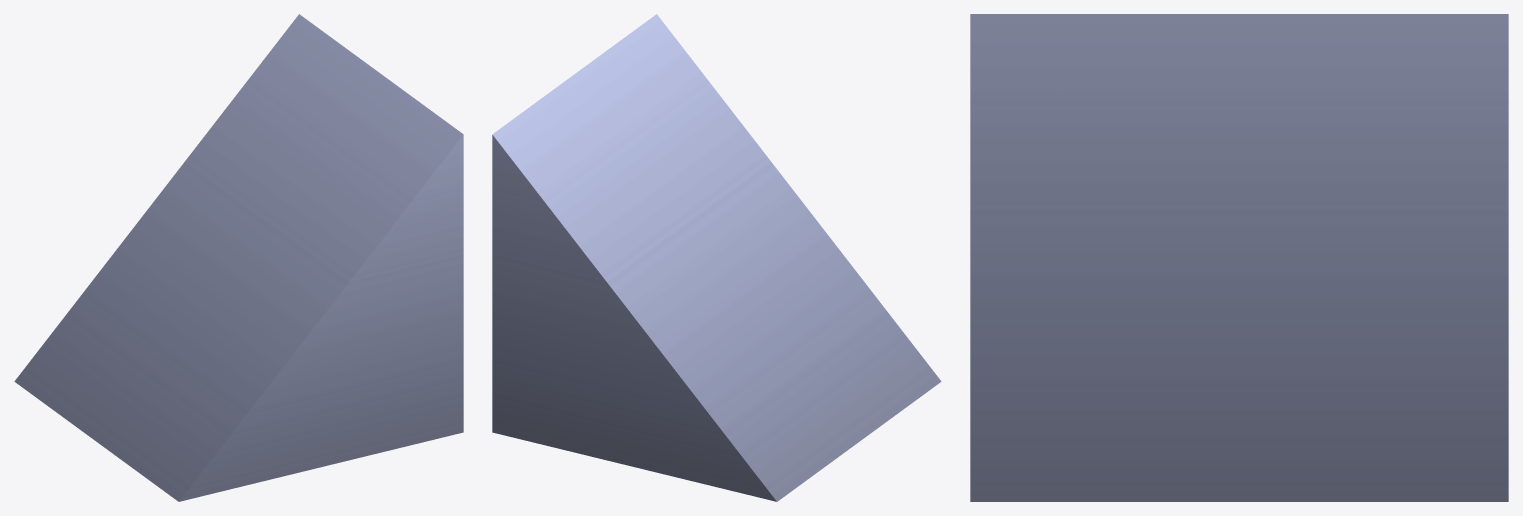
The model's file is shape-slope.fbx.
3 views of the same model, side by side, from view 1: azimuth 30°, elevation 25°; view 2: azimuth 150°, elevation 25°; view 3: azimuth 270°, elevation 25° (orthographic). The views are drawn at different scales.
Visible parts, largest first — view 1: shape-slope; view 2: shape-slope; view 3: shape-slope.
Part boxes in pixels (box(x1,y1,x2,y2)): shape-slope: box(14, 14, 463, 501); shape-slope: box(492, 14, 941, 501); shape-slope: box(970, 14, 1508, 501).
Bounding box in the file's own units: 100 × 100 × 100.
